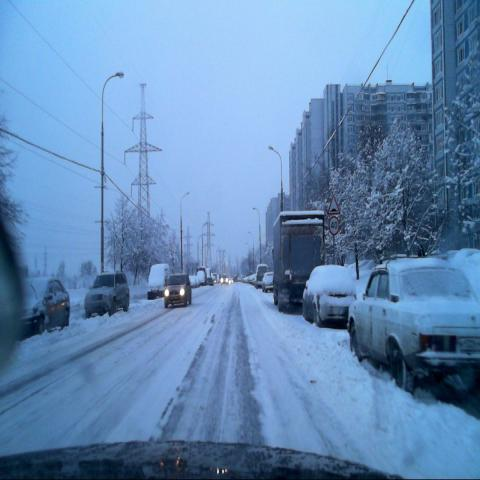1_17: (326, 195, 340, 213)
3_24: (328, 216, 340, 235)
